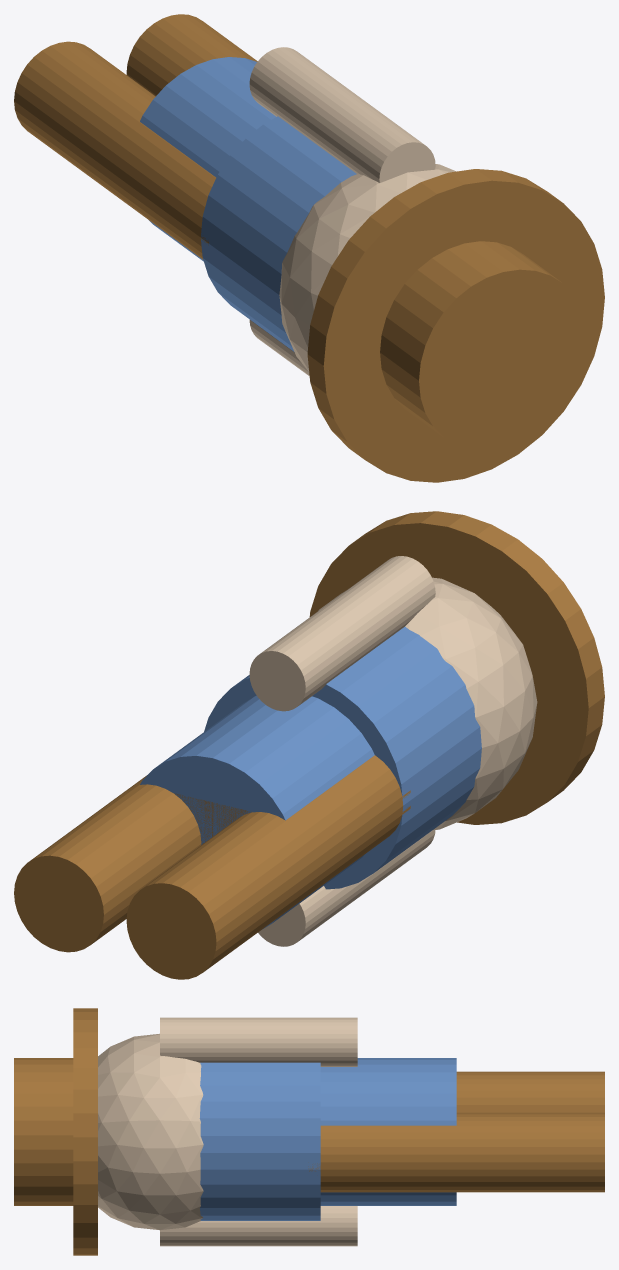
Rendered from driver.glb.
3 views of the same model, one above another, from view 1: azimuth 30°, elevation 25°; view 2: azimuth 150°, elevation 25°; view 3: azimuth 270°, elevation 25° (orthographic). The views are drawn at different scales.
Visible parts, largest first — view 1: geometry_7, geometry_8, geometry_5, geometry_1, geometry_2, geometry_3, geometry_0; view 2: geometry_5, geometry_7, geometry_1, geometry_3, geometry_2, geometry_0, geometry_4; view 3: geometry_5, geometry_1, geometry_0, geometry_2, geometry_3, geometry_8, geometry_7.
Boxes of the visible parts, left/top/right/bottom form: geometry_7: left=307, top=169, right=604, bottom=482; geometry_8: left=380, top=241, right=587, bottom=450; geometry_5: left=14, top=14, right=257, bottom=259; geometry_1: left=201, top=116, right=356, bottom=351; geometry_2: left=249, top=47, right=435, bottom=375; geometry_3: left=140, top=57, right=276, bottom=261; geometry_0: left=279, top=164, right=456, bottom=371; geometry_5: left=14, top=755, right=410, bottom=979; geometry_7: left=309, top=511, right=604, bottom=824; geometry_1: left=204, top=626, right=481, bottom=889; geometry_3: left=140, top=695, right=374, bottom=929; geometry_2: left=249, top=556, right=435, bottom=946; geometry_0: left=318, top=577, right=537, bottom=830; geometry_4: left=174, top=793, right=251, bottom=843; geometry_5: left=308, top=1071, right=604, bottom=1192; geometry_1: left=199, top=1062, right=320, bottom=1220; geometry_0: left=98, top=1033, right=203, bottom=1230; geometry_2: left=160, top=1017, right=357, bottom=1246; geometry_3: left=320, top=1058, right=456, bottom=1205; geometry_8: left=14, top=1058, right=73, bottom=1205; geometry_7: left=73, top=1008, right=97, bottom=1255.
Bounding box in the file's own units: 0.5 × 0.5 × 1.19.
